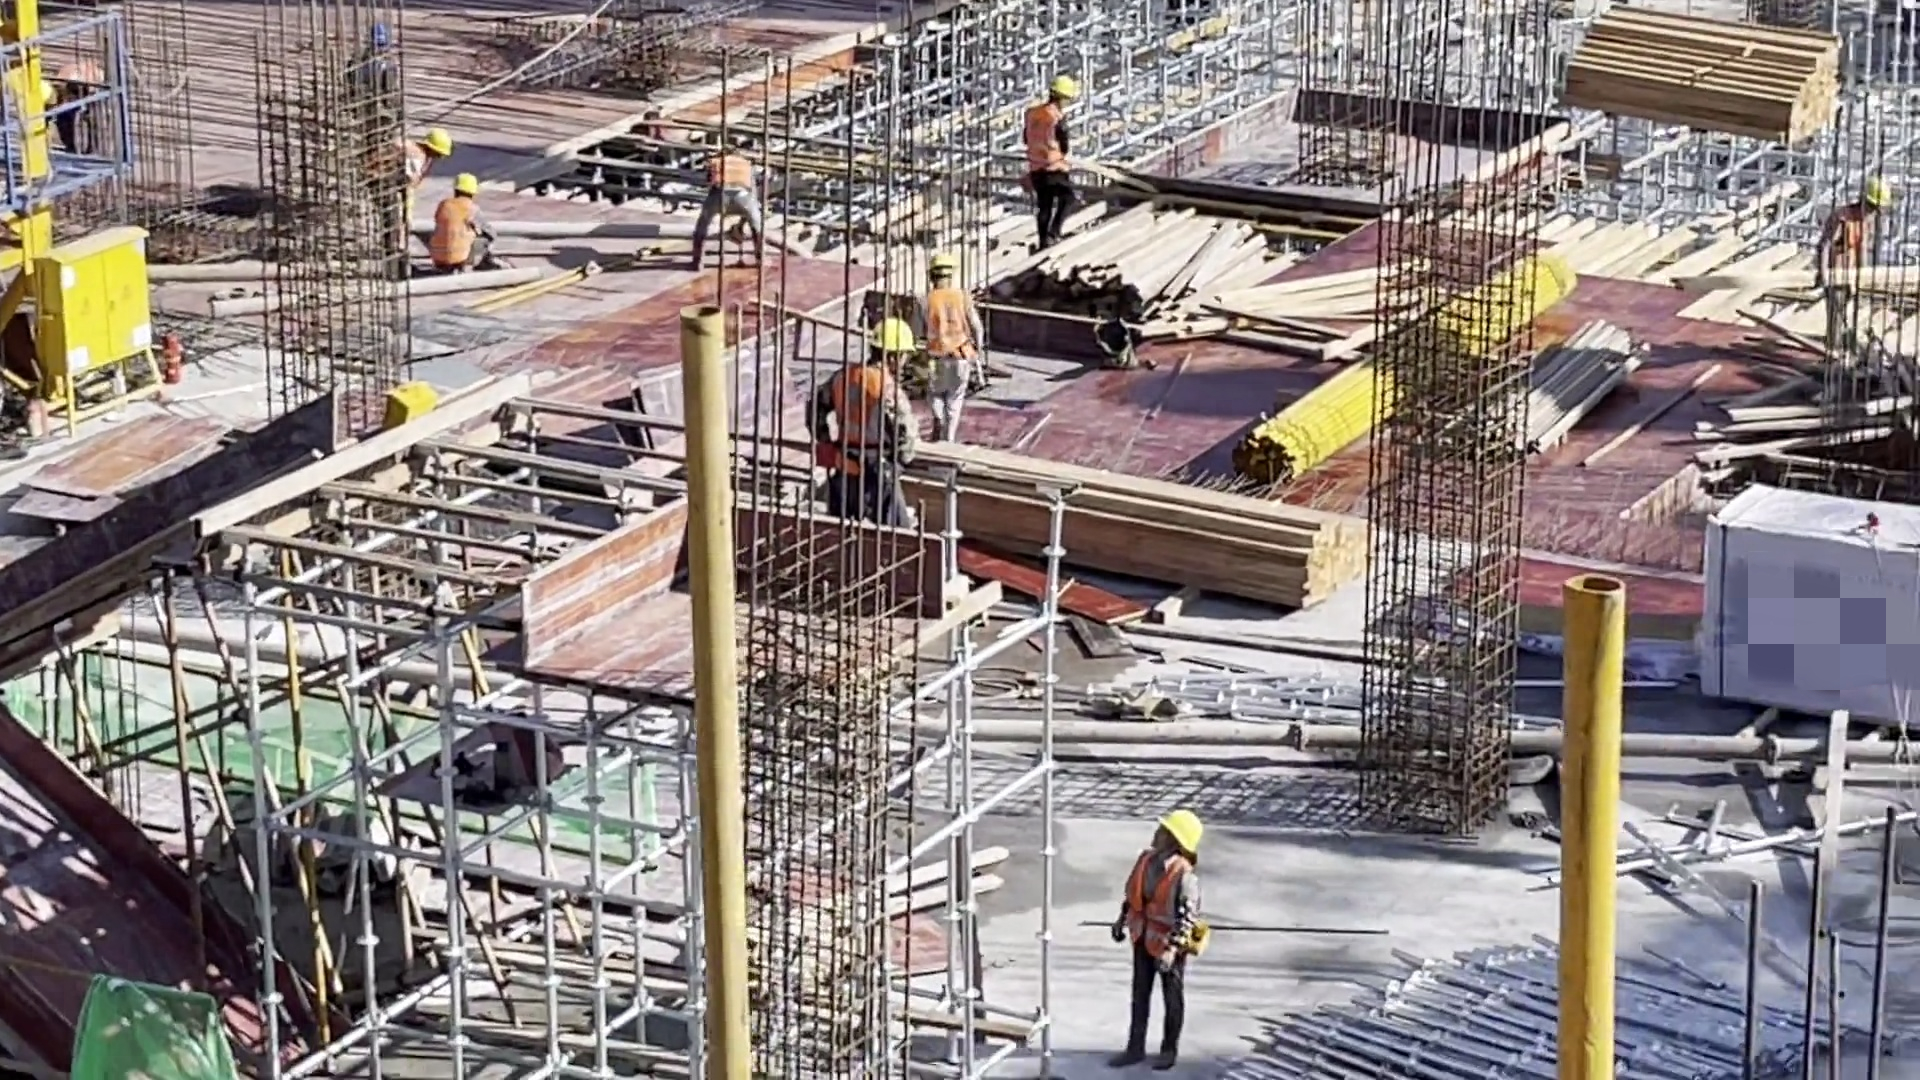helmet: (1157, 810, 1203, 854), (870, 318, 915, 351), (424, 131, 452, 154), (1864, 178, 1886, 206), (1051, 75, 1076, 96), (926, 254, 955, 271), (453, 174, 477, 193)
person: (815, 315, 927, 531), (1117, 814, 1206, 1072), (919, 251, 979, 449), (1816, 180, 1879, 349), (696, 153, 766, 284), (1023, 74, 1071, 245), (389, 130, 446, 256), (432, 174, 494, 270)
vest: (1127, 857, 1183, 965), (829, 370, 892, 456), (923, 291, 969, 364), (1021, 111, 1066, 177), (1824, 211, 1873, 265), (433, 203, 475, 262), (712, 153, 752, 189)
